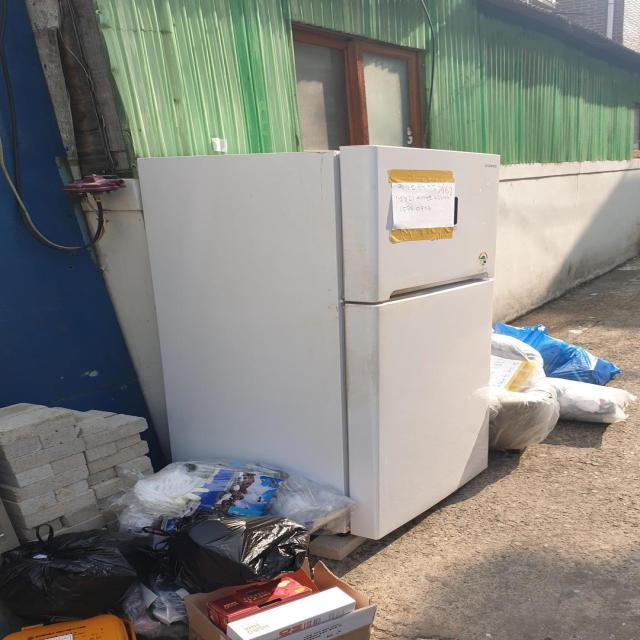refrigerator: (129, 145, 509, 544)
